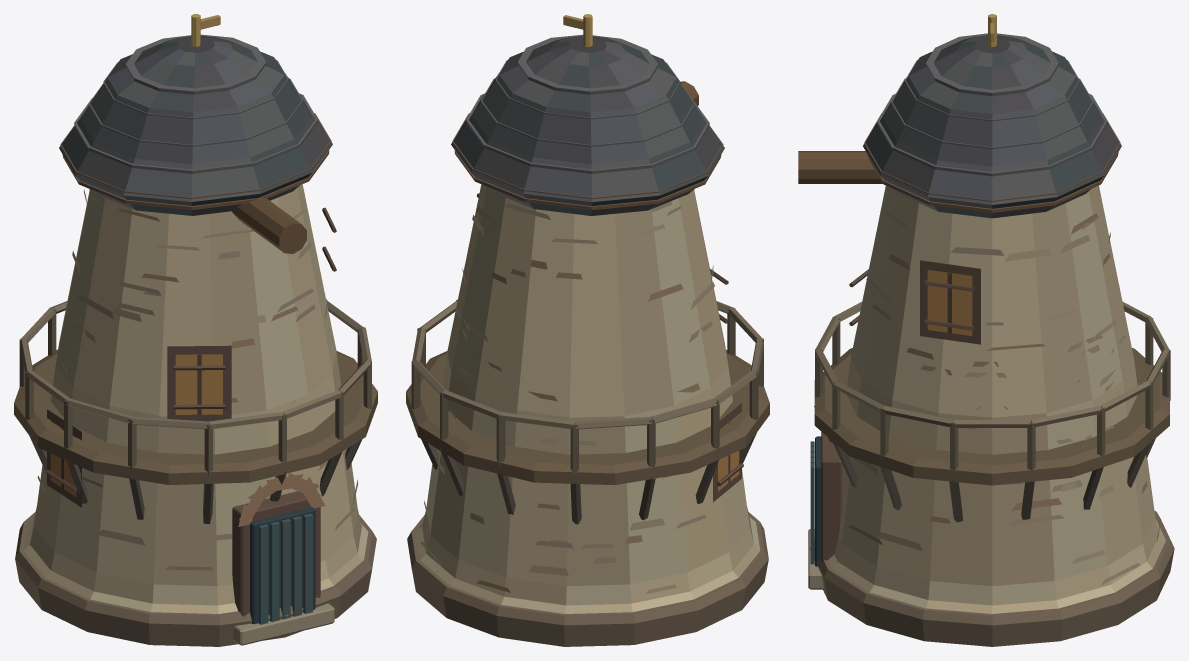
Rendered from bank_windmill.glb.
The picture shows the model from 3 angles, left to right: view 1: azimuth 30°, elevation 25°; view 2: azimuth 150°, elevation 25°; view 3: azimuth 270°, elevation 25°; orthographic projection.
Visible parts, largest first — view 1: bank_windmill; view 2: bank_windmill; view 3: bank_windmill.
Boxes of the visible parts, x1,y1,x2,y2 form: bank_windmill: [14, 14, 377, 646]; bank_windmill: [406, 14, 769, 646]; bank_windmill: [798, 14, 1174, 646].
Bounding box in the file's own units: 1.7 × 2.86 × 1.75.
